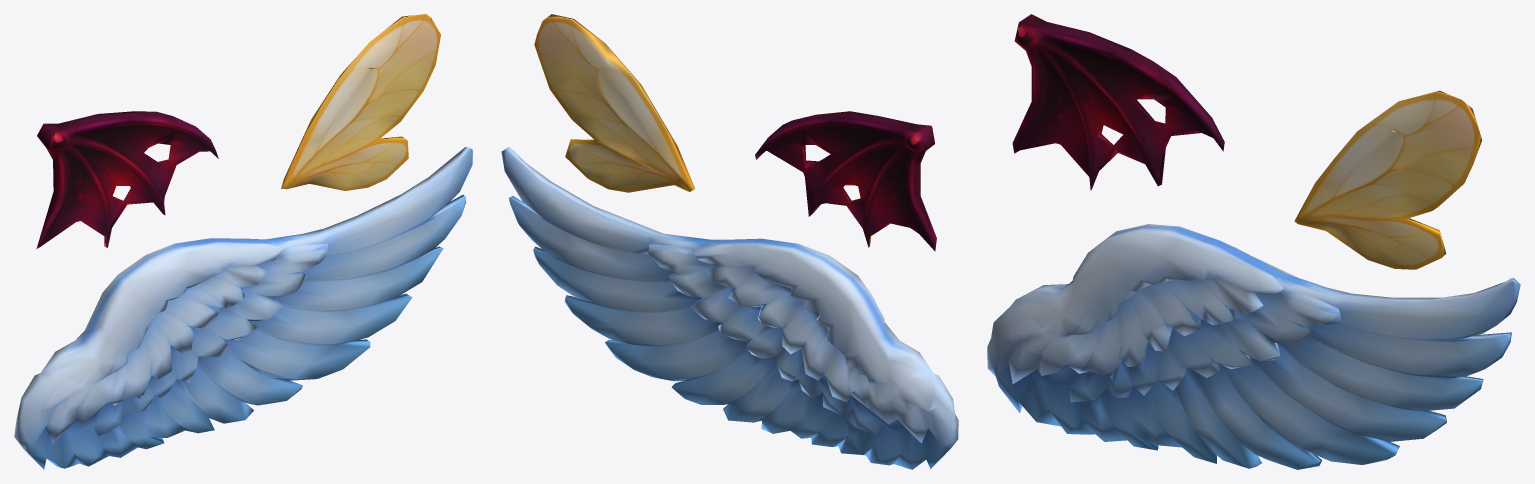
File: wing_trio.glb
3 views of the same model, side by side, from view 1: azimuth 30°, elevation 25°; view 2: azimuth 150°, elevation 25°; view 3: azimuth 330°, elevation 25° (orthographic). The views are drawn at different scales.
Parts seen in each view (by area): view 1: tripo_node_3fdd4b77-93b4-43b5-923d-00e101b4560f; view 2: tripo_node_3fdd4b77-93b4-43b5-923d-00e101b4560f; view 3: tripo_node_3fdd4b77-93b4-43b5-923d-00e101b4560f.
Part boxes in pixels (bbox=[...]): tripo_node_3fdd4b77-93b4-43b5-923d-00e101b4560f: bbox=[14, 14, 472, 469]; tripo_node_3fdd4b77-93b4-43b5-923d-00e101b4560f: bbox=[501, 14, 958, 469]; tripo_node_3fdd4b77-93b4-43b5-923d-00e101b4560f: bbox=[987, 14, 1520, 469].
Bounding box in the file's own units: 1 × 0.7758 × 0.0939.
1 material, 1 textured.
